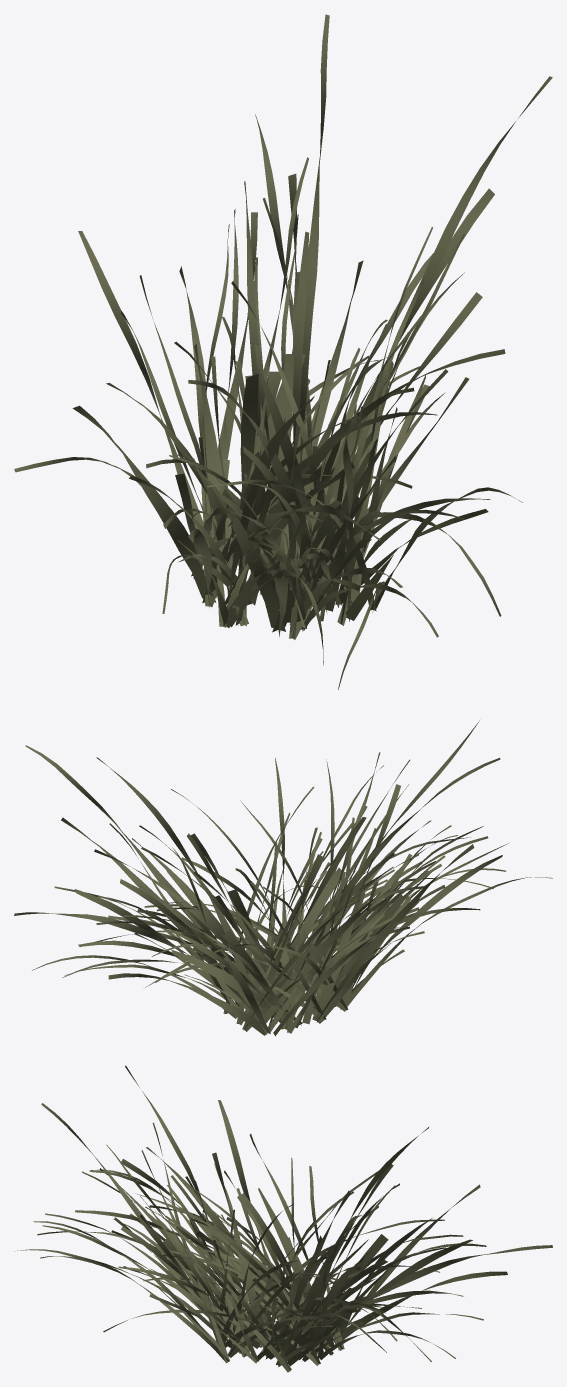
File: grass2.fbx
3 views of the same model, one above another, from view 1: azimuth 30°, elevation 25°; view 2: azimuth 150°, elevation 25°; view 3: azimuth 270°, elevation 25° (orthographic). The views are drawn at different scales.
Visible parts, largest first — view 1: grassClump1Main; view 2: grassClump1Main; view 3: grassClump1Main.
Boxes of the visible parts, box(x1,y1,x2,y2) form: grassClump1Main: box(14, 14, 552, 689); grassClump1Main: box(14, 720, 552, 1036); grassClump1Main: box(14, 1065, 552, 1372).
Size of the model in its own units: 88.66 by 60.87 by 108.
